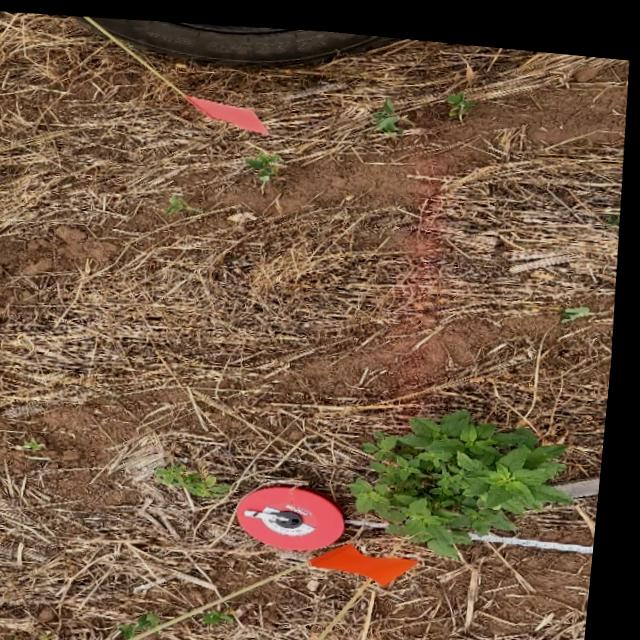caruru_weed: (359, 400, 580, 547), (164, 460, 237, 492)
soy_plant: (373, 90, 404, 128), (131, 608, 172, 635), (248, 147, 281, 177), (446, 81, 475, 111), (211, 602, 245, 619), (565, 293, 594, 310), (169, 190, 194, 209), (16, 633, 64, 640), (32, 437, 50, 449)
